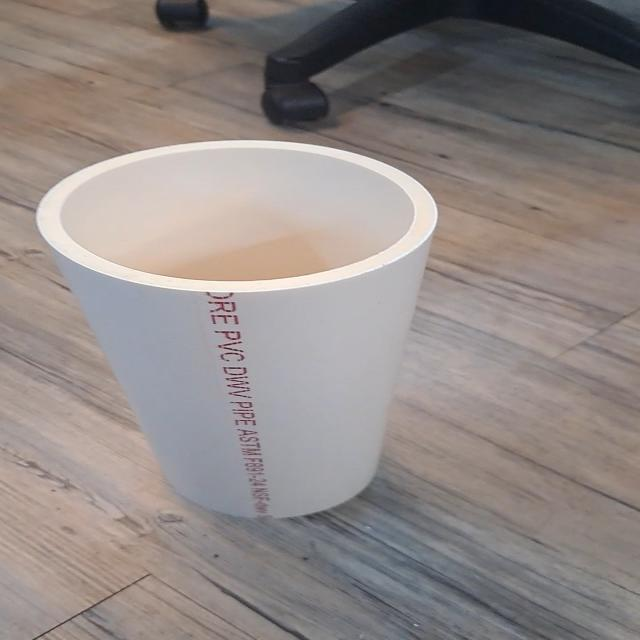CORAL: (33, 132, 454, 525)
